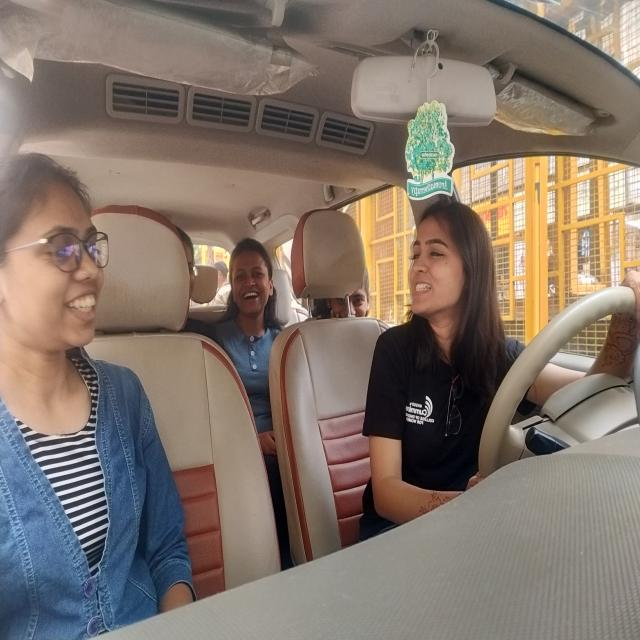LeftRight: (407, 196, 498, 343)
person: (5, 144, 120, 397), (230, 229, 277, 325), (307, 292, 374, 323), (176, 220, 200, 302)
talking: (65, 290, 100, 328), (412, 275, 438, 299)
